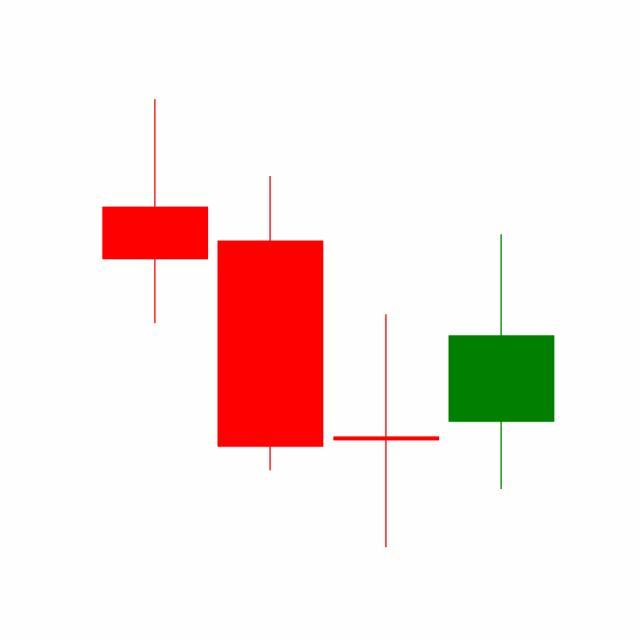Unique 3 River: (211, 171, 555, 548)
